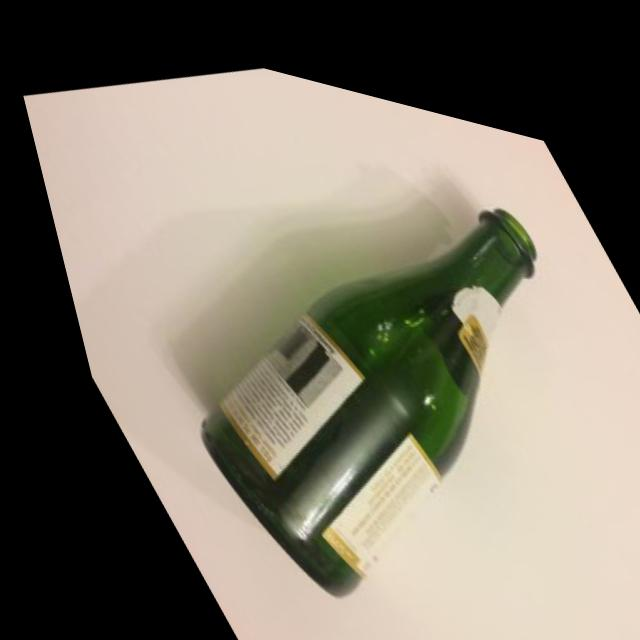glass: (4, 21, 640, 640)
